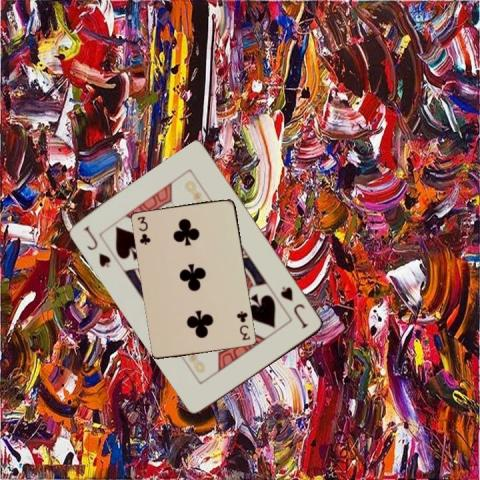3c: (234, 308, 252, 342), (135, 213, 151, 247)
Js: (80, 223, 113, 269), (278, 283, 310, 330)
